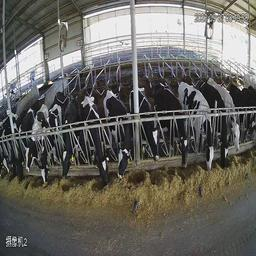cow: (178, 74, 220, 178), (155, 74, 192, 189), (211, 66, 249, 171), (81, 85, 113, 193), (203, 76, 235, 174), (104, 80, 133, 187), (131, 80, 160, 174), (61, 92, 81, 189), (43, 104, 63, 190), (11, 100, 25, 186), (29, 97, 42, 187)
